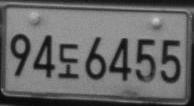4: (108, 37, 132, 82), (31, 34, 55, 77)
5: (160, 39, 181, 83), (136, 38, 156, 82)
6: (85, 36, 107, 79)
9: (9, 33, 31, 77)
도: (58, 42, 80, 78)
